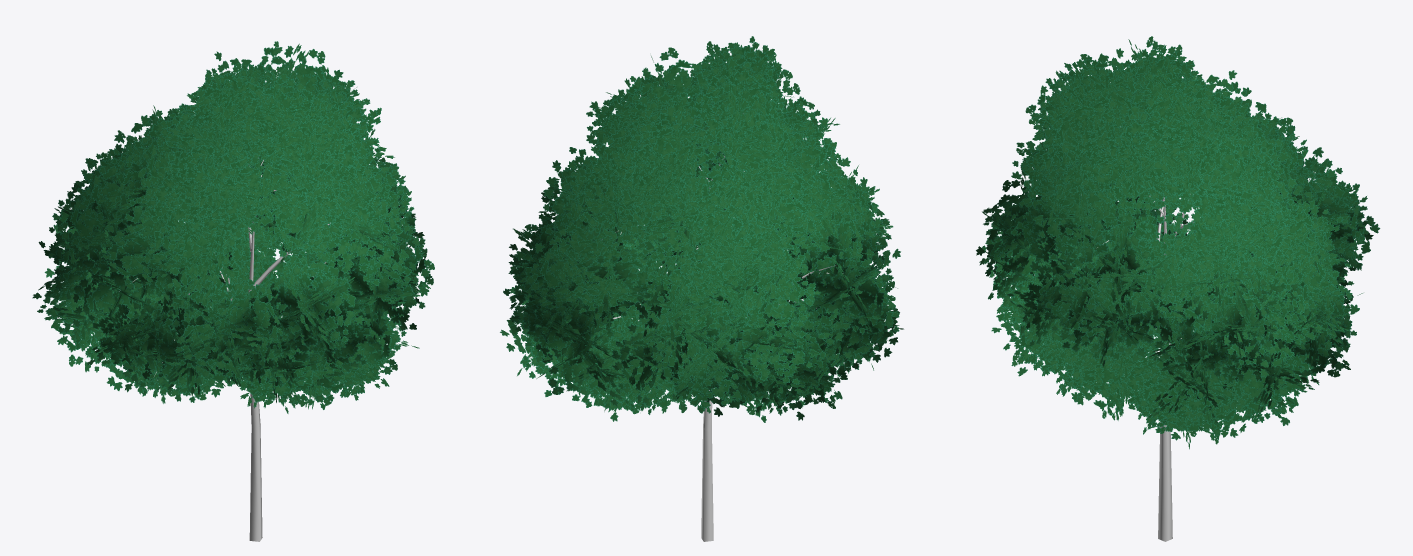
Rendered from Tree_0.fbx.
The picture shows the model from 3 angles, left to right: view 1: azimuth 30°, elevation 25°; view 2: azimuth 150°, elevation 25°; view 3: azimuth 270°, elevation 25°; orthographic projection.
Parts seen in each view (by area): view 1: Tree_0_LOD0; view 2: Tree_0_LOD0; view 3: Tree_0_LOD0.
Boxes of the visible parts, x1=… form: Tree_0_LOD0: x1=32, y1=41, x2=434, y2=541; Tree_0_LOD0: x1=500, y1=36, x2=903, y2=541; Tree_0_LOD0: x1=976, y1=36, x2=1380, y2=541.
Size of what is drawn, in the model's own units: 612 by 760 by 597.
